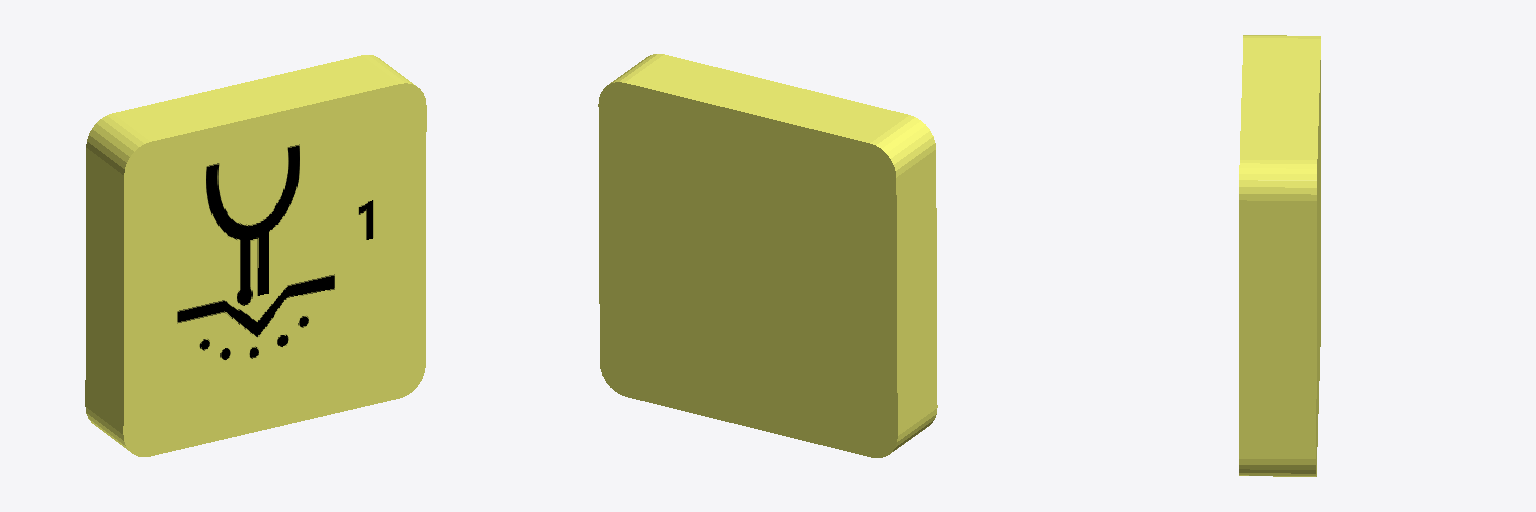
3 views of the same model, side by side, from view 1: azimuth 30°, elevation 25°; view 2: azimuth 150°, elevation 25°; view 3: azimuth 270°, elevation 25° (orthographic).
Size of the model in its own units: 5.39 by 5.38 by 1.28.
Materials: 1 (1 with a texture image).